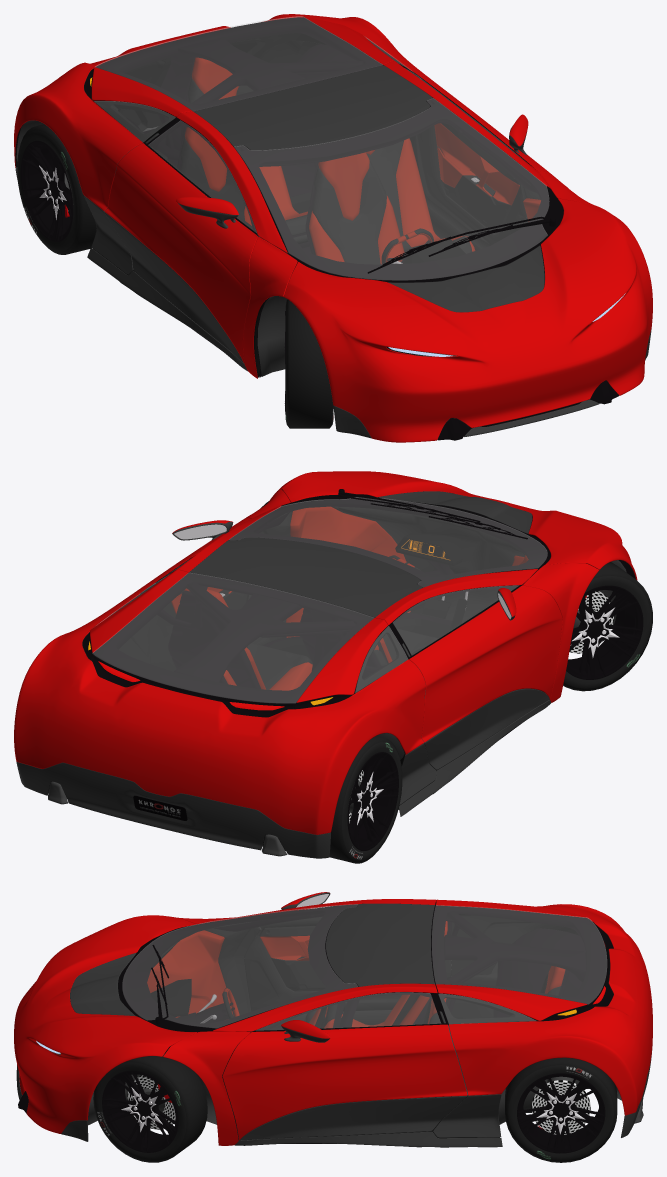
The model's file is CarConcept.glb.
3 renders of one model, top to bottom at view 1: azimuth 30°, elevation 25°; view 2: azimuth 150°, elevation 25°; view 3: azimuth 270°, elevation 25°, orthographic. The views are drawn at different scales.
Parts seen in each view (by area): view 1: BodyHood, BodyWindshield, BodyRearwindow, BodyDoorRColor1, BodyRearPanelsColor1, BodyRoofPanel, BodyWindshieldGasket, InteriorSeatsColor1, InteriorSeatsColor2, BodyPillars, InteriorPillar, InteriorRearHatch (+21 smaller); view 2: BodyRearPanelsColor1, BodyRearwindow, BodyWindshield, BodyDoorRColor1, BodyPanelsColor2, BodyRoofPanel, BodyHood, InteriorRearHatch, BodyPillars, InteriorPillar, BodyWindshieldGasket, InteriorDashMid (+22 smaller); view 3: BodyRearPanelsColor1, BodyWindshield, BodyDoorLColor1, BodyHood, BodyRearwindow, BodyRoofPanel, BodyPillars, BodyWindshieldGasket, BodyDoorLColor2, BodyPanelsColor2, WheelFrontL, InteriorRearHatch (+25 smaller).
Part boxes in pixels (x1,y1,x2,y2): BodyHood: (283,198,652,442); BodyWindshield: (234,98,549,280); BodyRearwindow: (95,16,382,110); BodyDoorRColor1: (104,143,257,362); BodyRearPanelsColor1: (14,14,428,210); BodyRoofPanel: (193,65,432,150); BodyWindshieldGasket: (234,99,563,282); InteriorSeatsColor1: (185,57,475,264); InteriorSeatsColor2: (180,78,472,264); BodyPillars: (176,61,598,378); InteriorPillar: (158,37,434,168); InteriorRearHatch: (93,17,383,117); BodyRearPanelsColor1: (14,569,425,834); BodyRearwindow: (92,573,373,703); BodyWindshield: (229,497,547,587); BodyDoorRColor1: (409,585,562,742); BodyPanelsColor2: (16,700,550,858); BodyRoofPanel: (189,537,422,617); BodyHood: (279,471,637,580); InteriorRearHatch: (93,573,386,707); BodyPillars: (175,489,599,702); InteriorPillar: (174,574,417,682); BodyWindshieldGasket: (230,497,550,587); InteriorDashMid: (331,502,528,622); BodyRearPanelsColor1: (436,899,652,1115); BodyWindshield: (122,904,357,1028); BodyDoorLColor1: (222,1024,467,1139); BodyHood: (14,915,196,1133); BodyRearwindow: (432,905,606,1003); BodyRoofPanel: (326,903,434,986); BodyPillars: (163,899,437,1145); BodyWindshieldGasket: (118,905,357,1032); BodyDoorLColor2: (240,1096,467,1140); BodyPanelsColor2: (16,1050,652,1147); WheelFrontL: (93,1054,207,1162); InteriorRearHatch: (431,905,606,1020).
Size of the model in its own units: 2.54 by 1.15 by 4.36.
23 materials, 6 textured.
